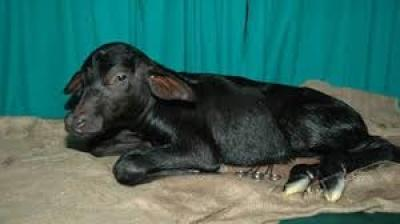buffalo: (64, 42, 399, 200)
